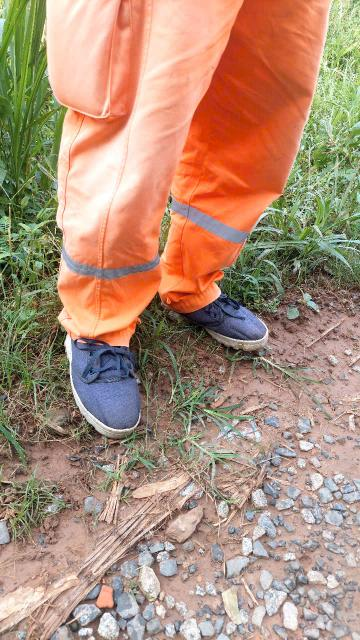shoes: (35, 310, 144, 442), (179, 266, 272, 362)
